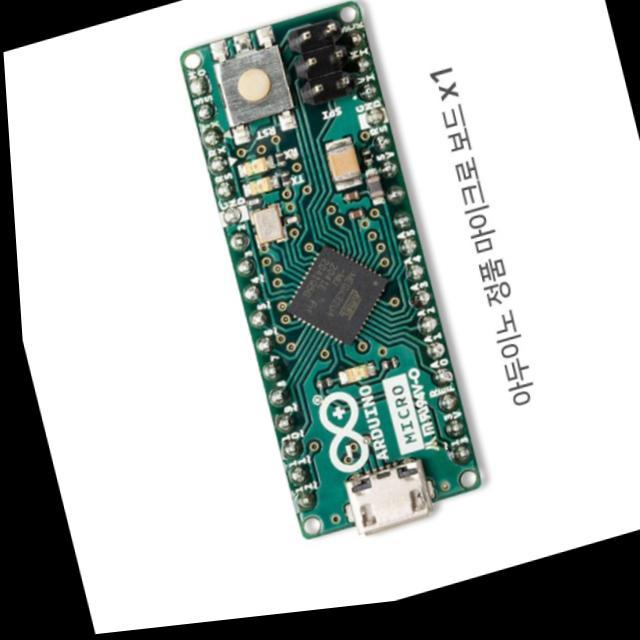Arduino-Micro: (182, 3, 480, 538)
